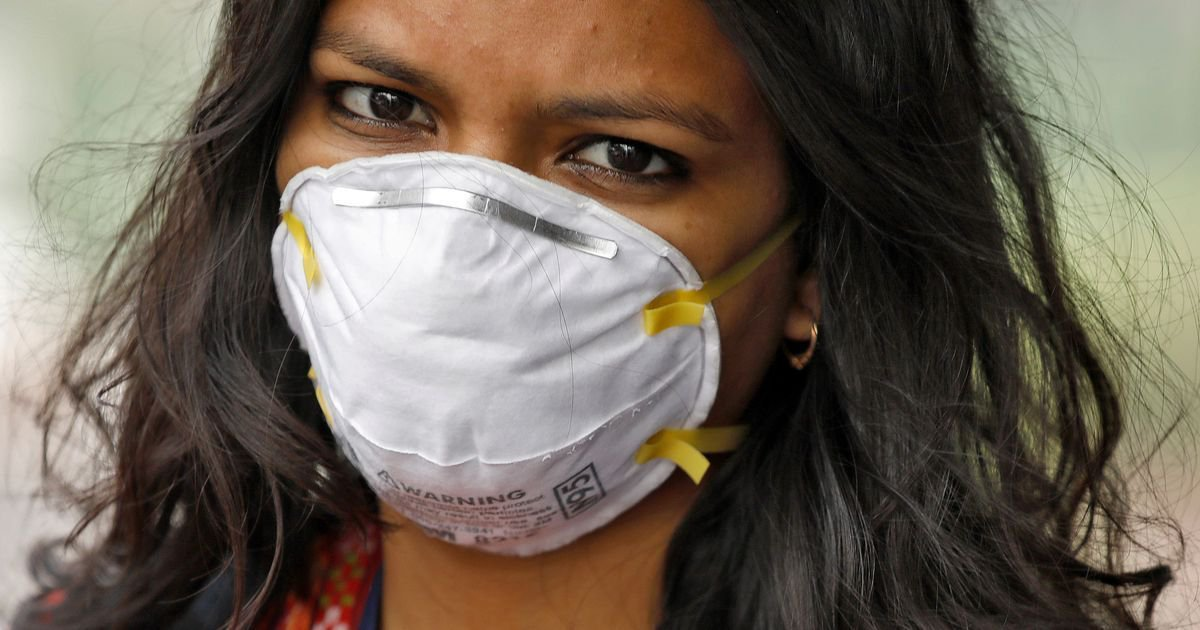mask: (186, 2, 903, 557)
